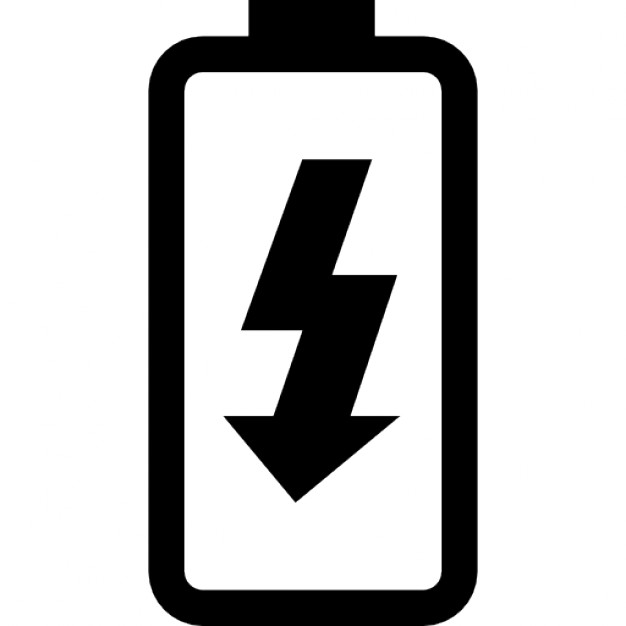charging sign: (102, 1, 497, 626)
